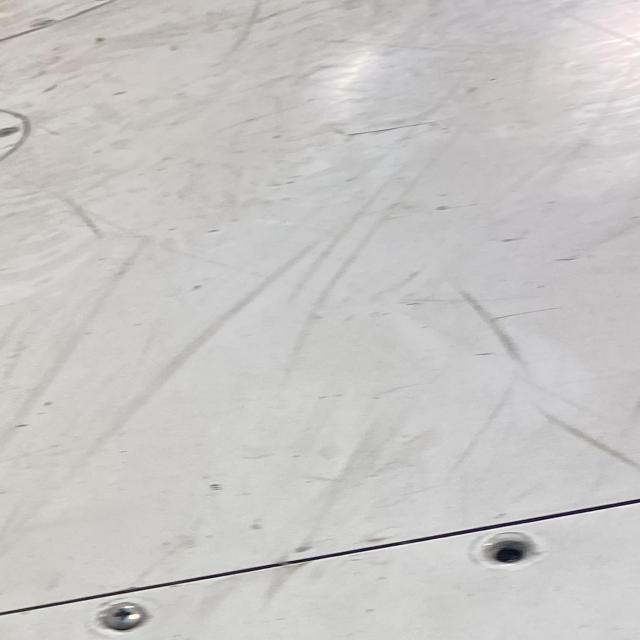Missing-head: (475, 528, 545, 566)
